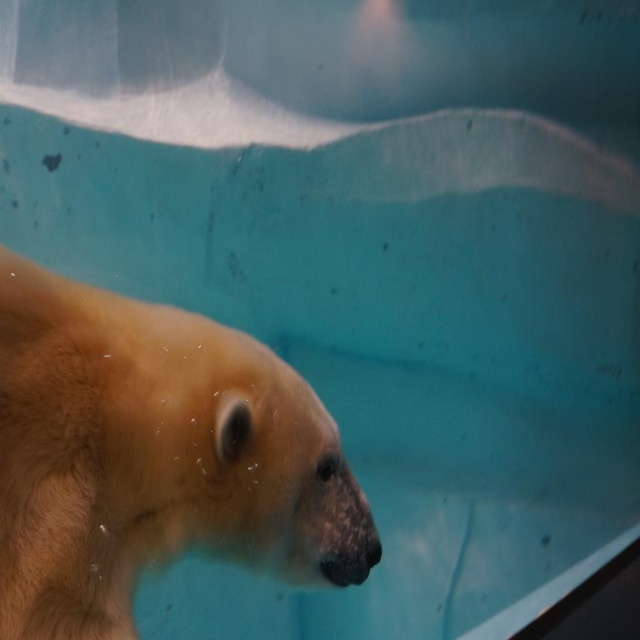Polar bear: (0, 246, 380, 636)
